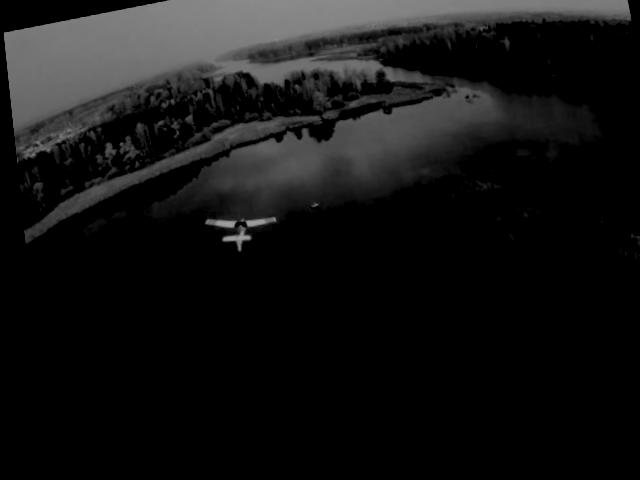hedef: (190, 201, 286, 271)
